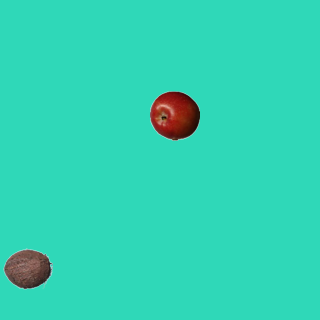Apple Braeburn: (149, 90, 199, 140)
Cocos: (2, 243, 52, 293)
